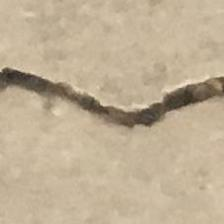Crack: (0, 49, 224, 142)
